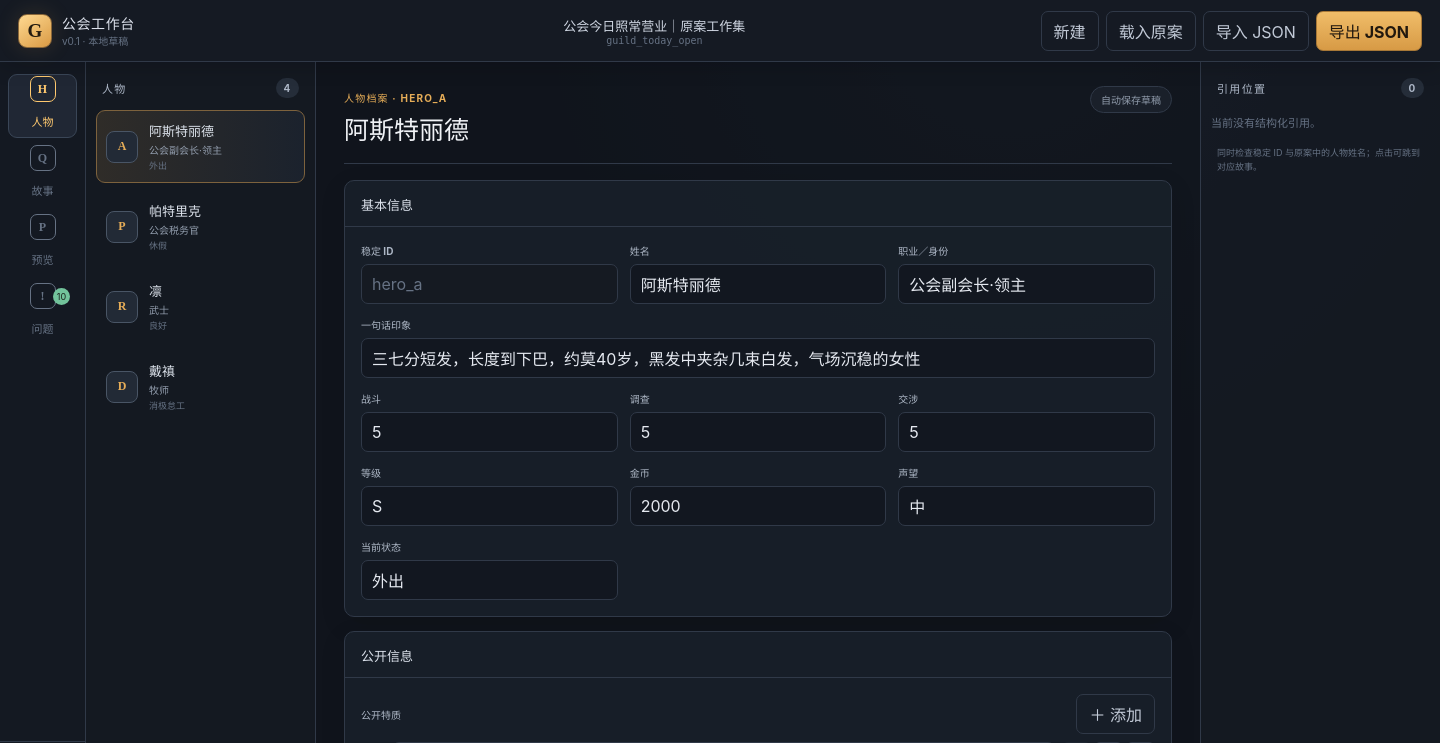
Test: workbench interaction › runs the lullaby soothe branch without touching JSON
Click the button "P 预览": (42, 244) [8,212,77,276]
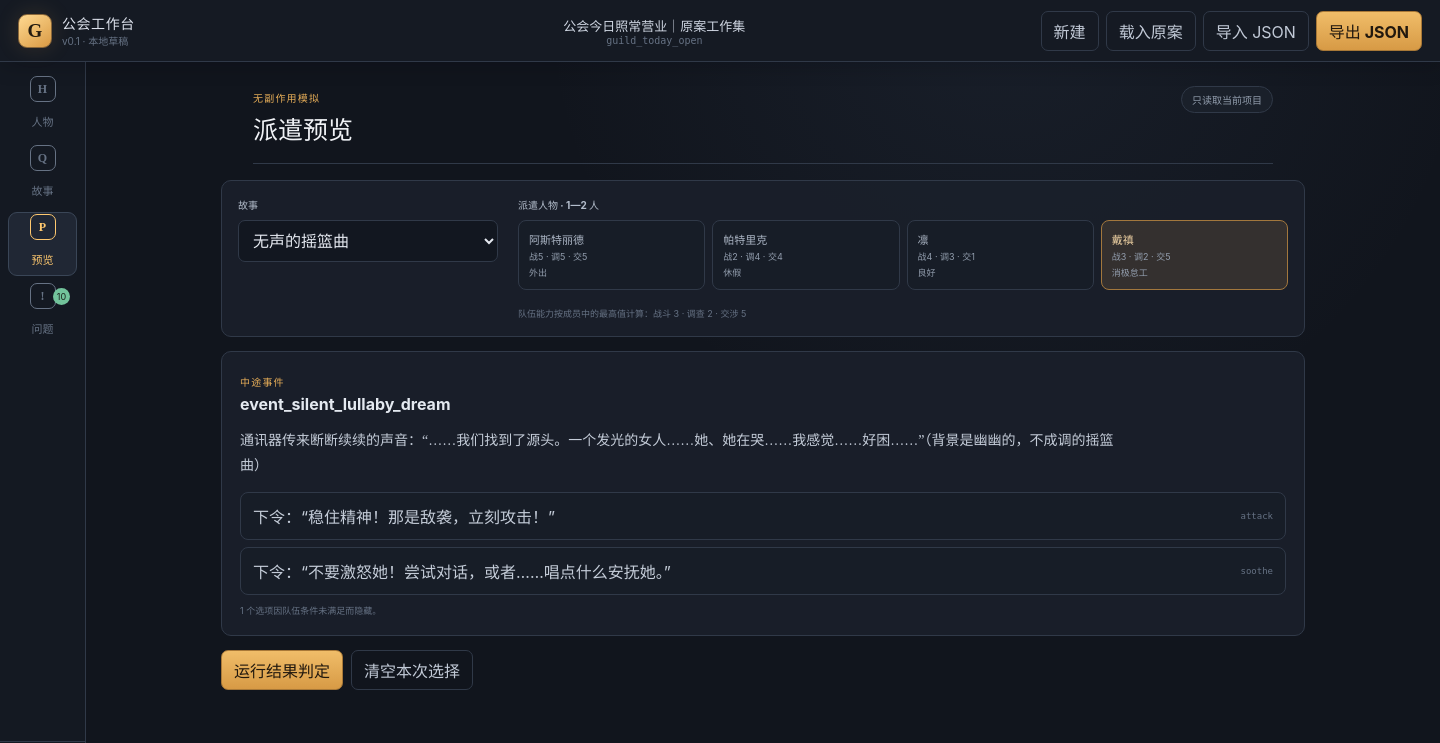
Click the button "下令：“不要激怒她！尝试对话，或者……唱点什么安抚她。” soothe": (462, 572) [240,547,1286,595]
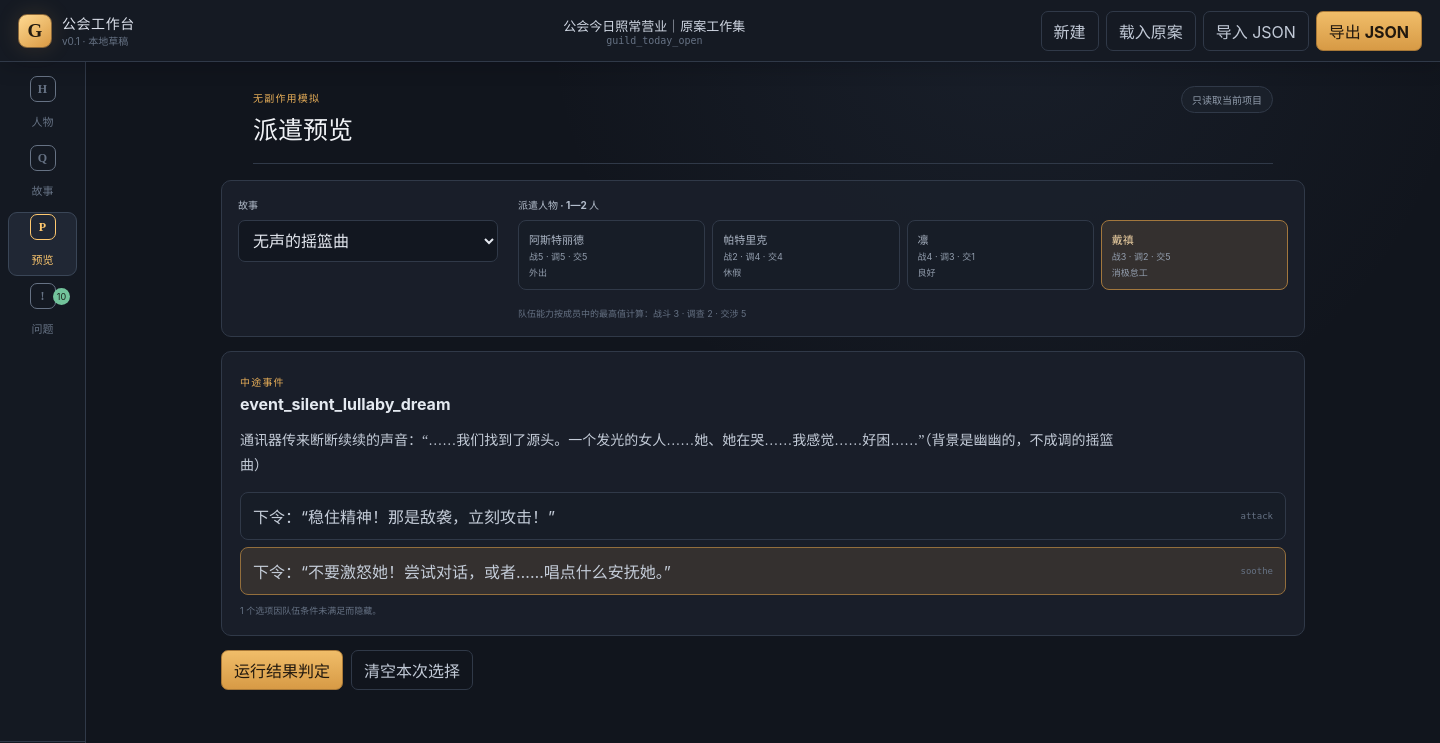
Click the button "运行结果判定": (282, 670) [221,650,343,690]
(page scrolled)
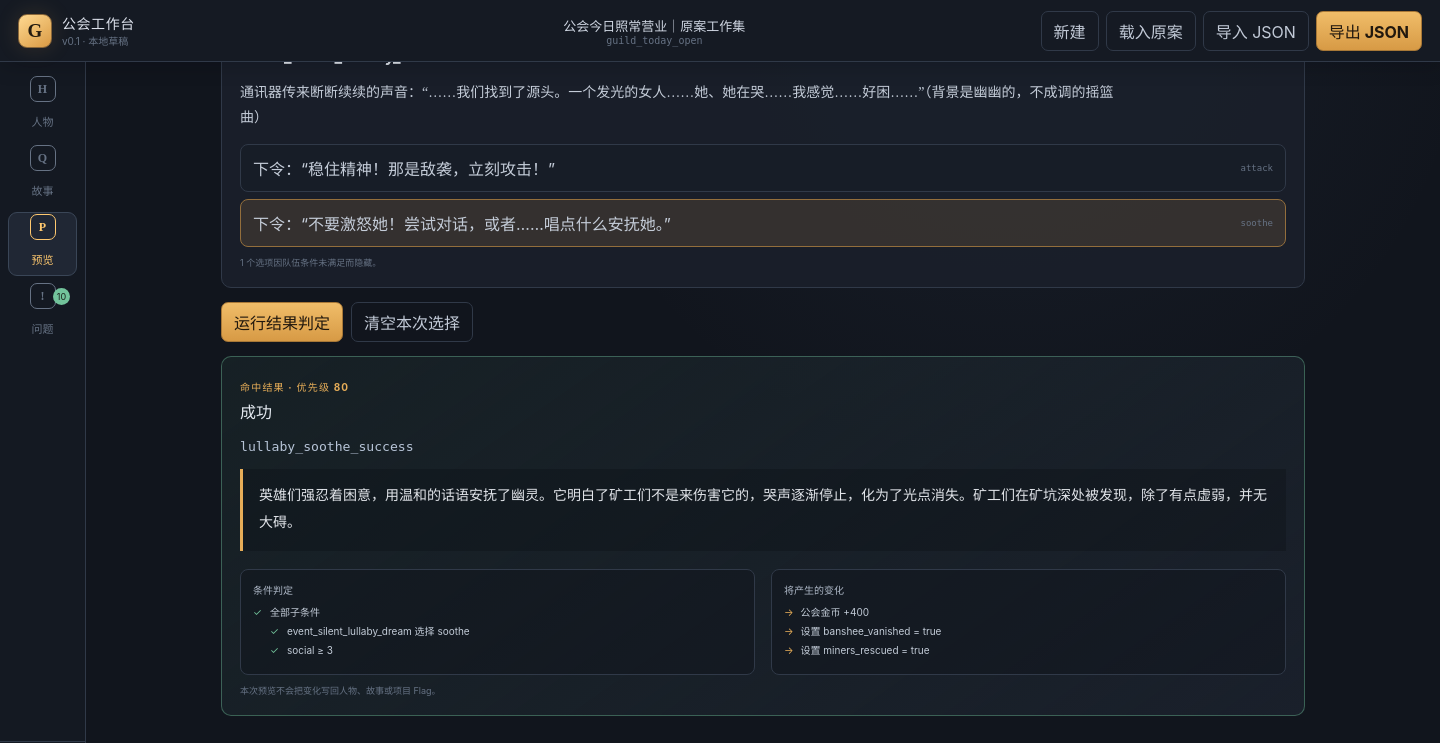
Result: the text "lullaby_soothe_success" is shown at [240,439,414,454]
Result: the heading "成功" is shown at [240,402,272,422]
Result: the text "矿工们在矿坑深处被发现" is shown at [259,488,1267,530]
